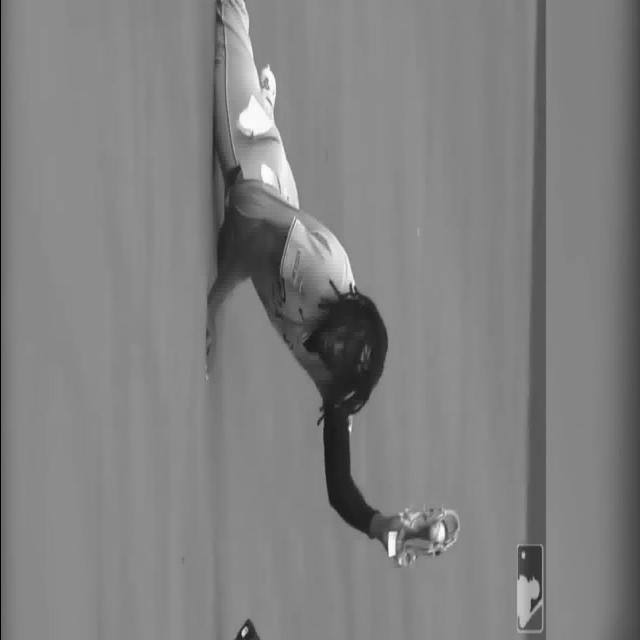baseball: (429, 520, 443, 550)
shoe: (392, 496, 468, 576), (257, 70, 277, 127)
